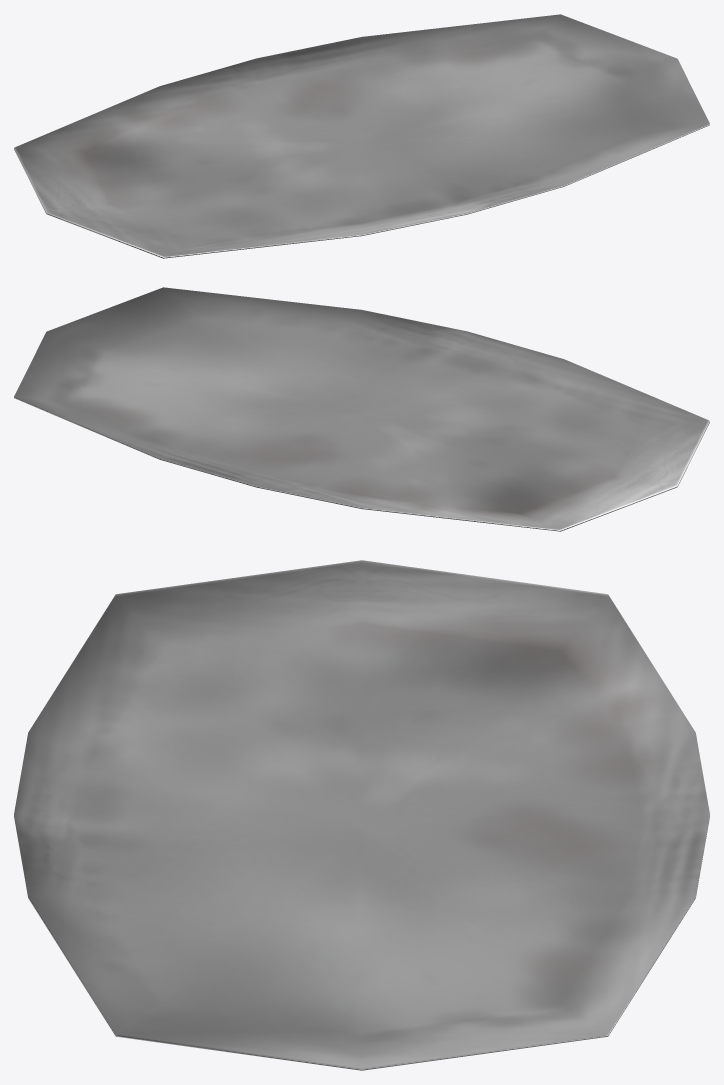
Rendered from Serving.fbx.
The picture shows the model from 3 angles, top to bottom: view 1: azimuth 30°, elevation 25°; view 2: azimuth 150°, elevation 25°; view 3: azimuth 270°, elevation 25°; orthographic projection. The views are drawn at different scales.
Parts seen in each view (by area): view 1: serving; view 2: serving; view 3: serving.
Boxes of the visible parts, <box> form: serving: <box>14,14,709,258</box>; serving: <box>14,287,709,531</box>; serving: <box>14,560,709,1070</box>.
Size of the model in its own units: 0.8491 by 0.0244 by 0.4917.
